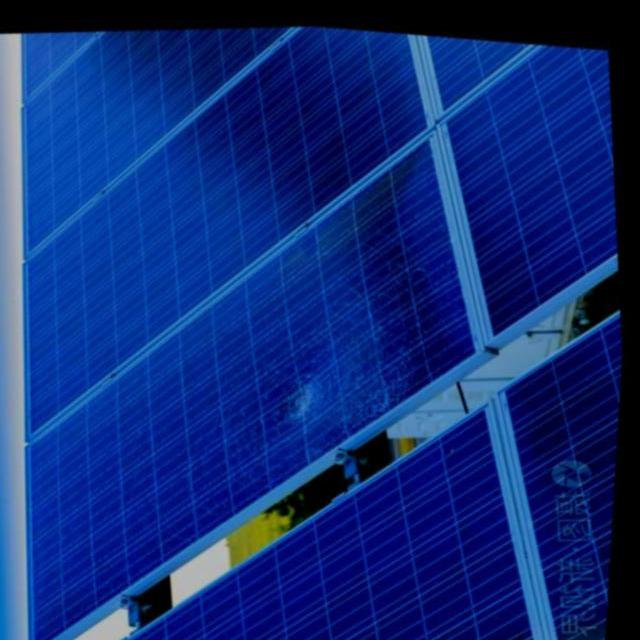cracked: (29, 215, 485, 620)
